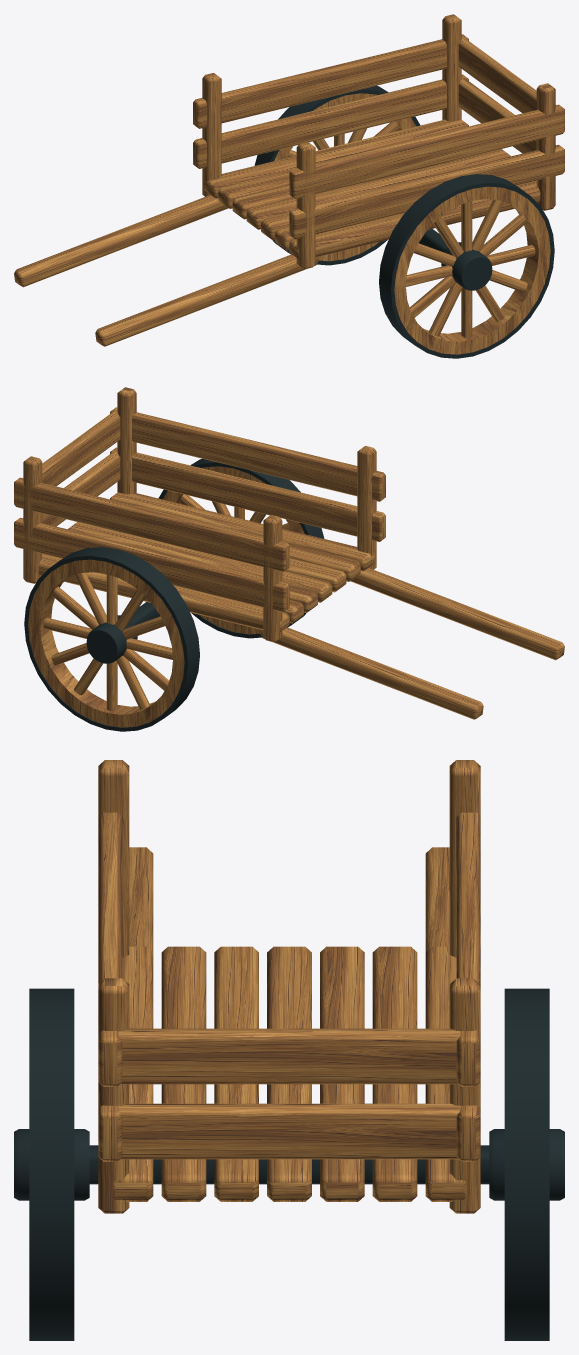
File: 22_Carro_Mano.obj
3 views of the same model, one above another, from view 1: azimuth 30°, elevation 25°; view 2: azimuth 150°, elevation 25°; view 3: azimuth 270°, elevation 25° (orthographic). The views are drawn at different scales.
Visible parts, largest first — view 1: 22_Carro_Mano_Wood, 22_Carro_Mano_Iron; view 2: 22_Carro_Mano_Wood, 22_Carro_Mano_Iron; view 3: 22_Carro_Mano_Wood, 22_Carro_Mano_Iron.
Boxes of the visible parts, bbox=[...] form: 22_Carro_Mano_Wood: bbox=[14, 14, 564, 354]; 22_Carro_Mano_Iron: bbox=[254, 85, 554, 358]; 22_Carro_Mano_Wood: bbox=[14, 387, 564, 727]; 22_Carro_Mano_Iron: bbox=[24, 458, 324, 731]; 22_Carro_Mano_Wood: bbox=[98, 760, 480, 1213]; 22_Carro_Mano_Iron: bbox=[14, 988, 564, 1340].
Size of the model in its own units: 2.86 by 1.38 by 1.6.
2 materials, 1 textured.
